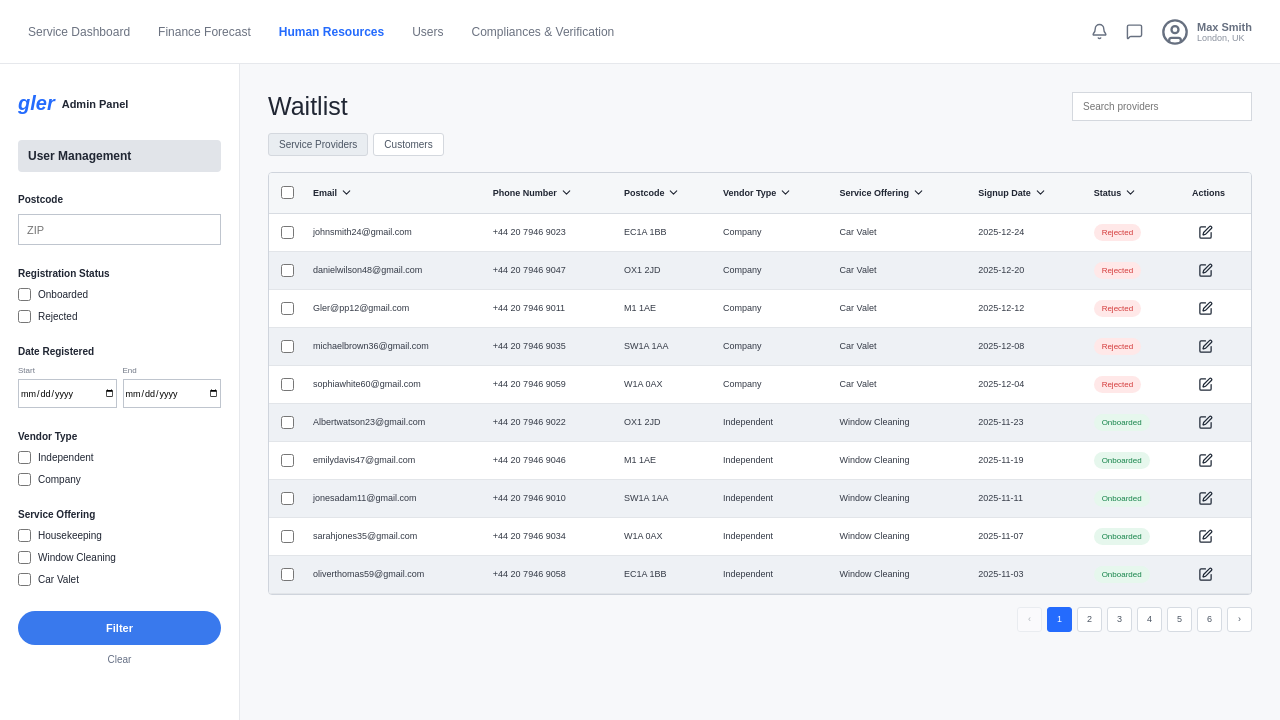
waitlist dashboard › sorts the table with a keyboard-accessible sort control
This screenshot has width=1280, height=720.
Click the button with aria-label "Sort by Email".
click(395, 193)  # box [313,186,477,199]
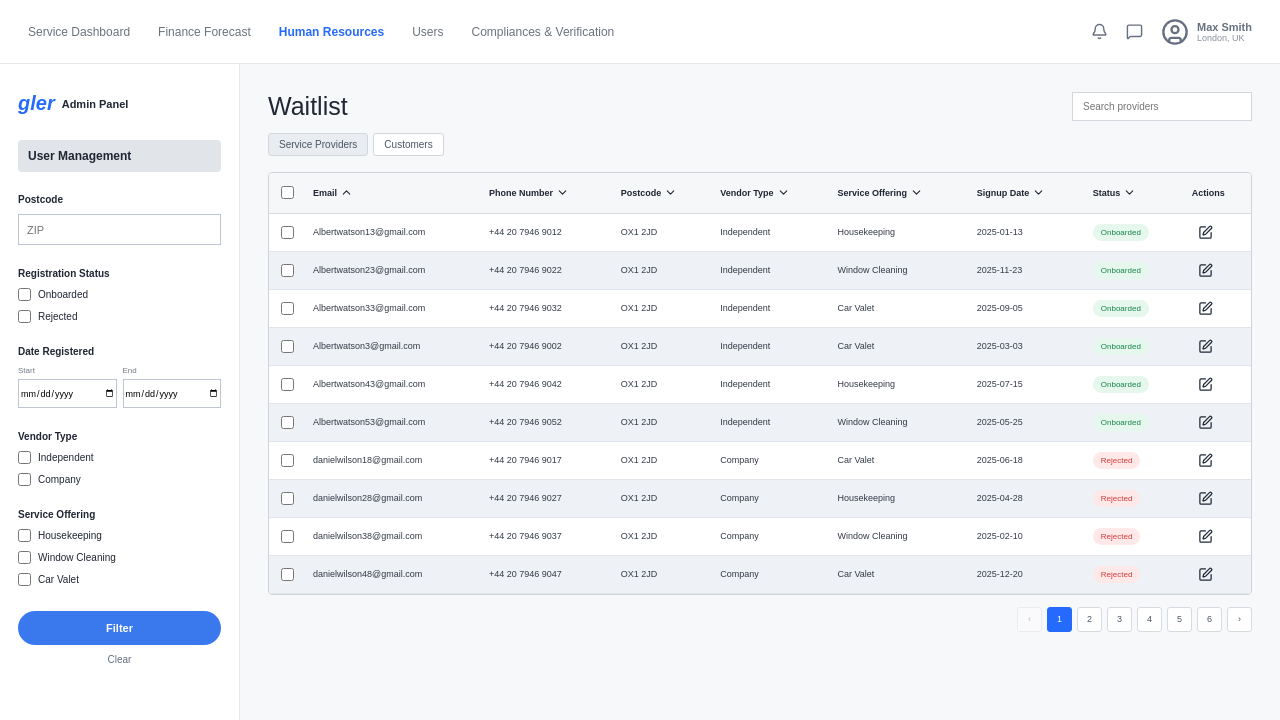
Now the row that starts with "Albertwatson13@gmail.com" is shown, box [313,227,425,237]
